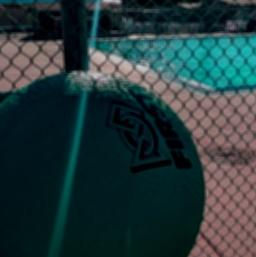algae: (0, 67, 206, 257)
